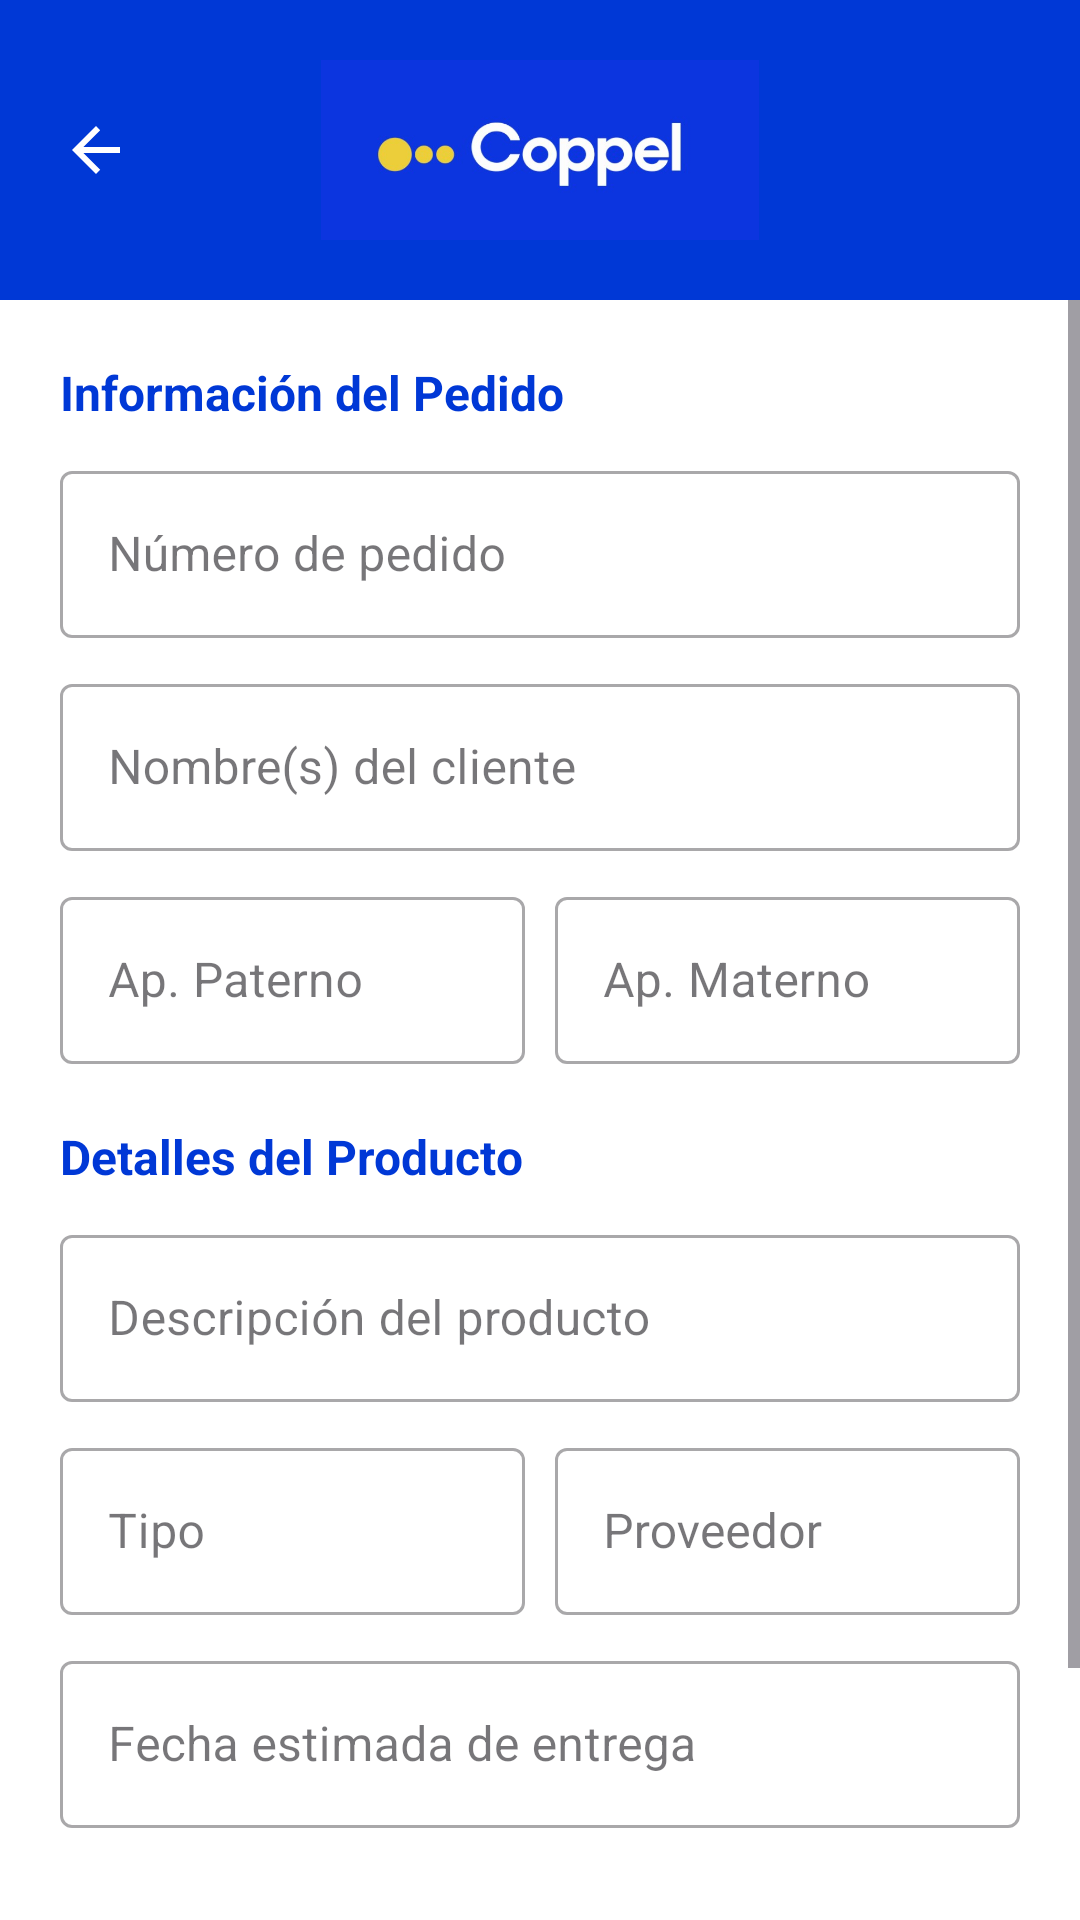

Point at icon controls on the screen. Image size 1080×1920, points as (x,y).
ab back: (96,150)
